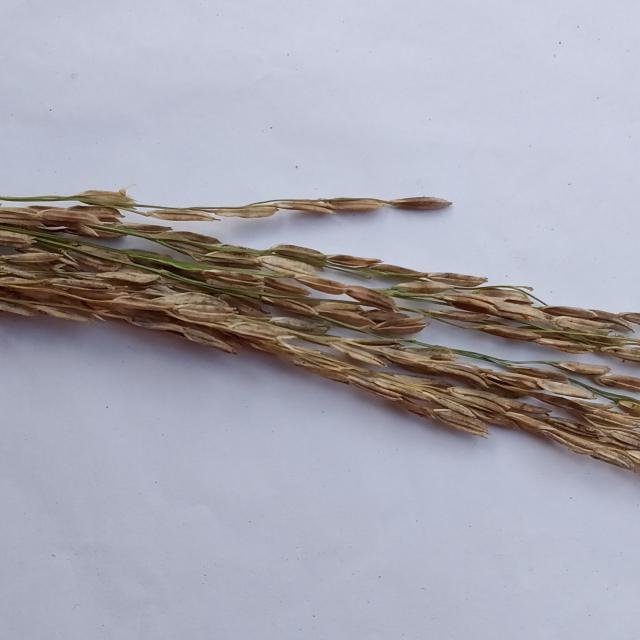Neck_Blast: (0, 212, 631, 471)
